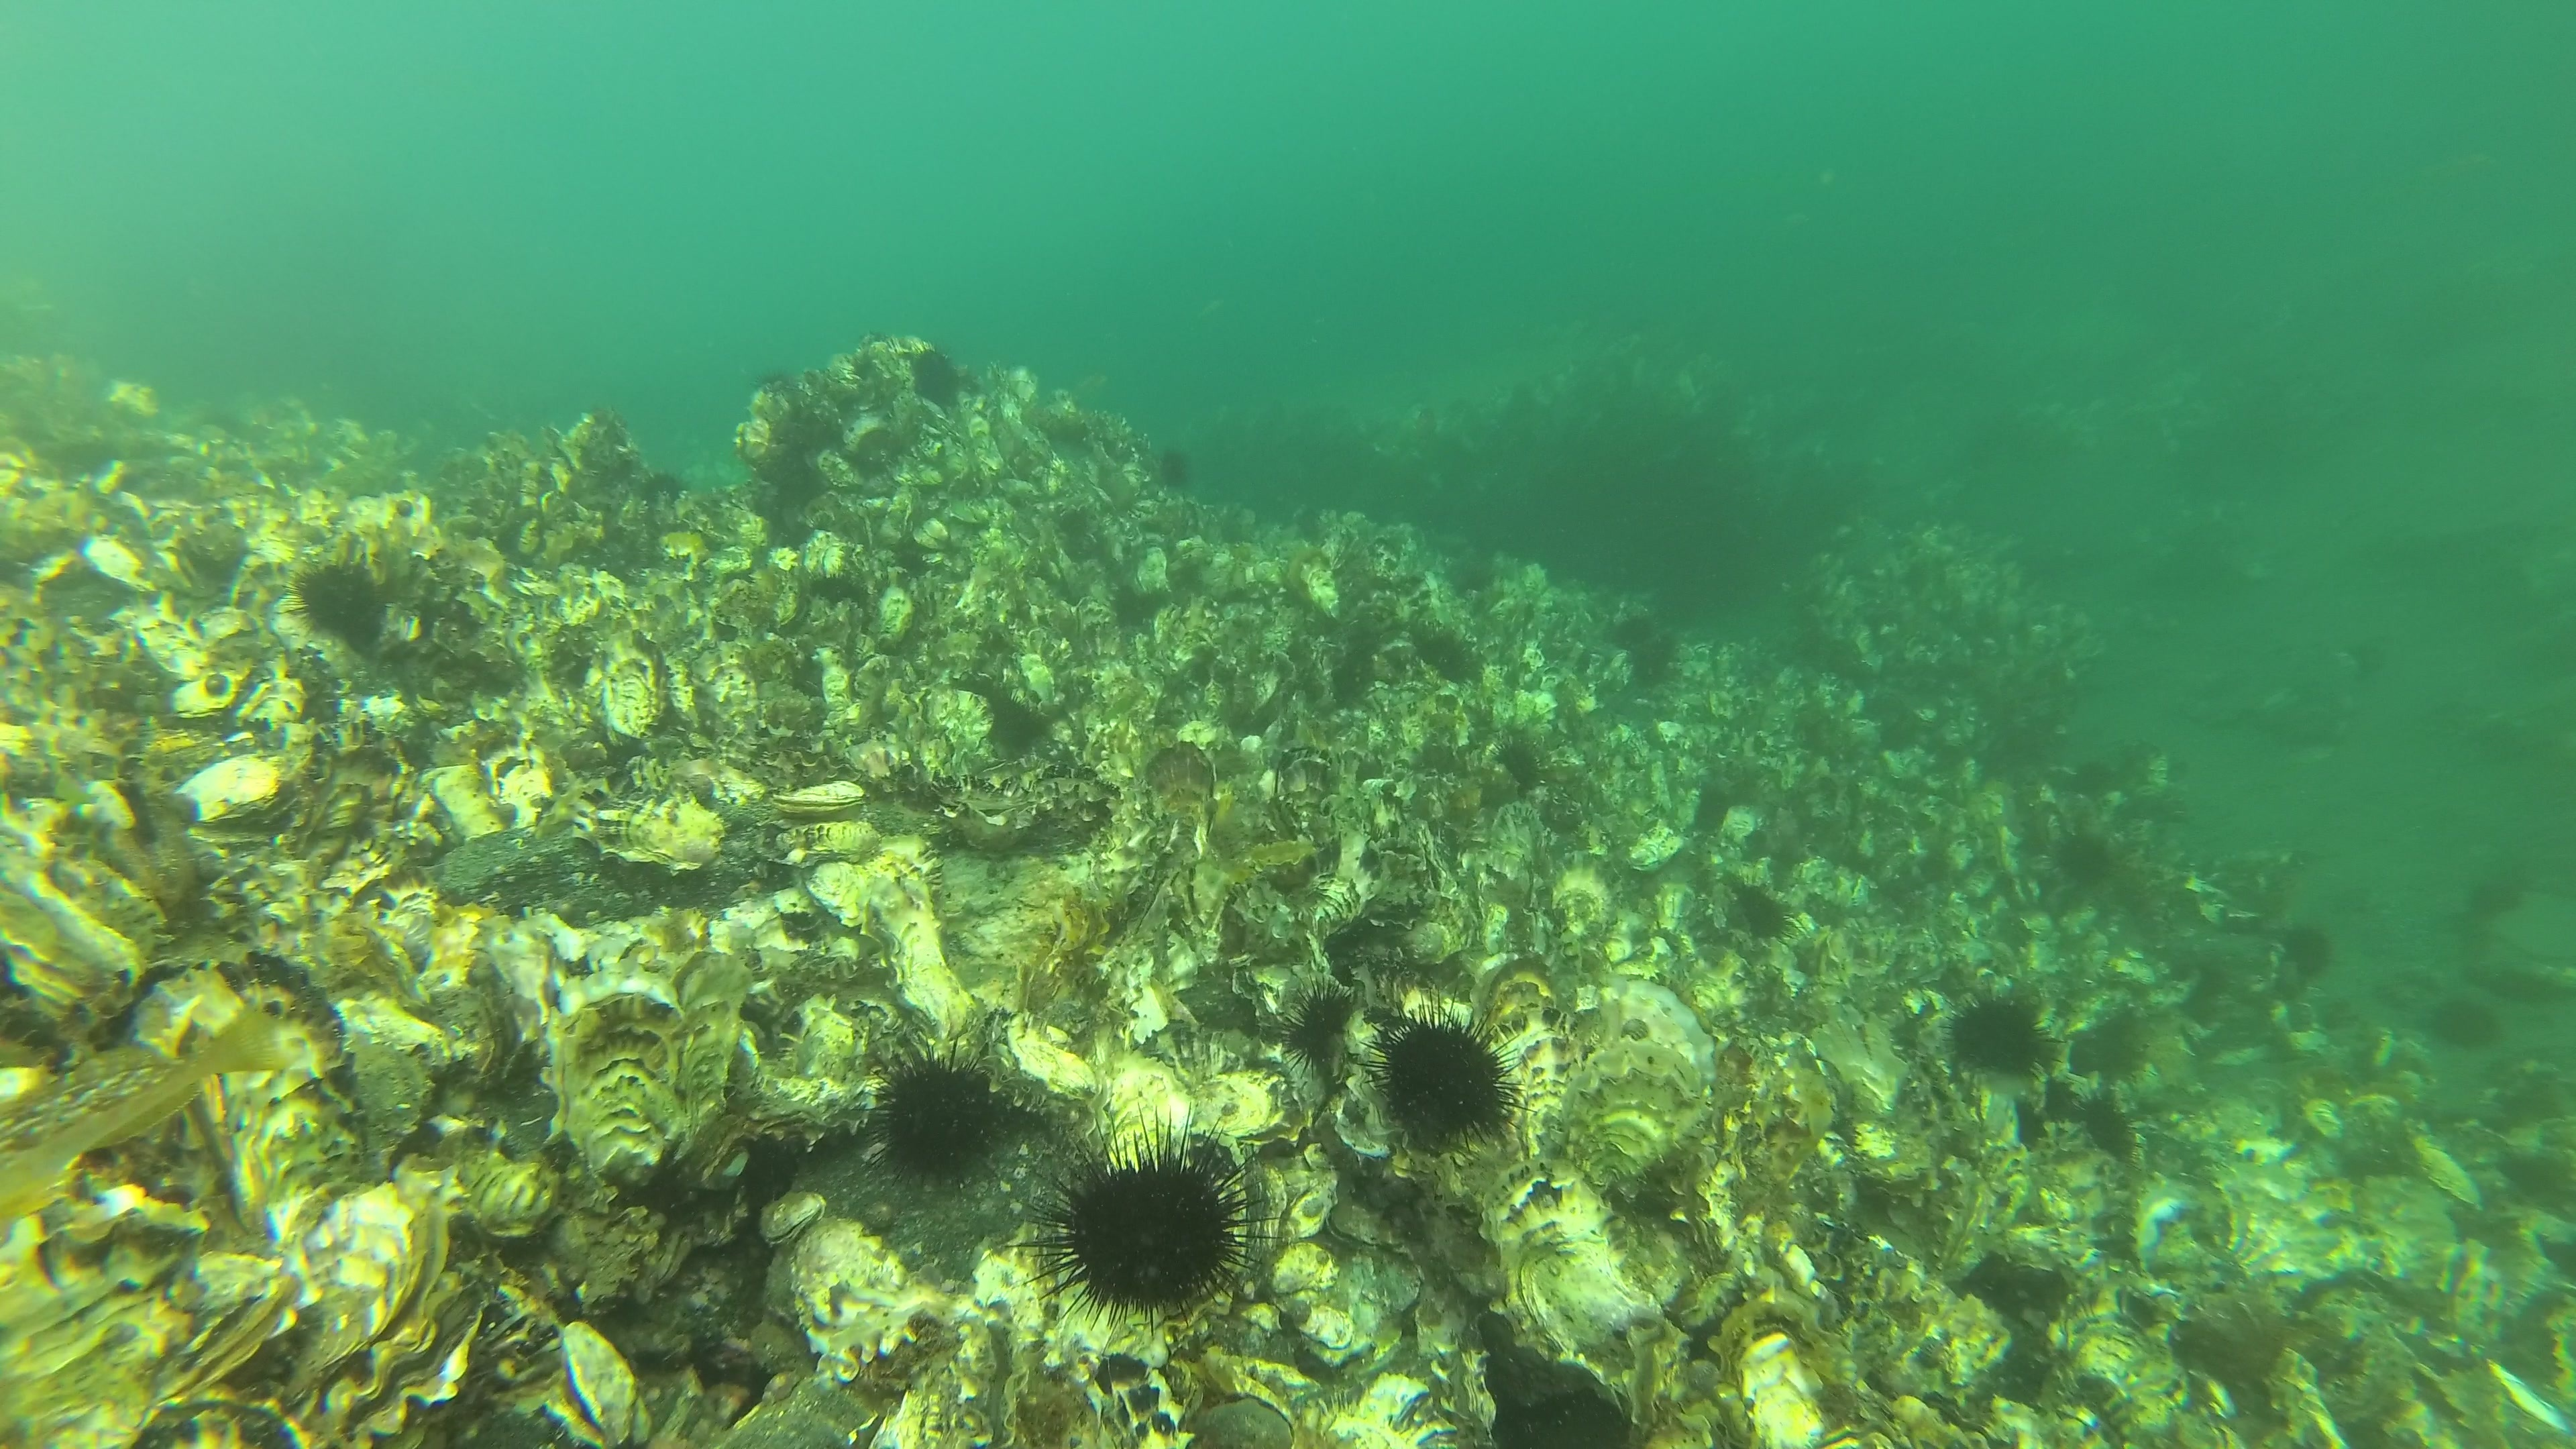echinus: (1014, 1097, 1277, 1336), (1366, 991, 1525, 1171), (869, 1040, 1007, 1189), (287, 550, 395, 653), (1276, 980, 1387, 1079), (1953, 994, 2043, 1079), (1718, 872, 1796, 947), (902, 343, 975, 419), (2079, 1086, 2141, 1161), (2270, 920, 2342, 982), (1407, 630, 1472, 690), (1614, 625, 1674, 686), (2054, 830, 2111, 892), (2443, 996, 2500, 1044), (1495, 743, 1546, 793), (2066, 755, 2118, 800), (637, 467, 688, 511), (2470, 872, 2523, 915), (1152, 448, 1200, 494)
